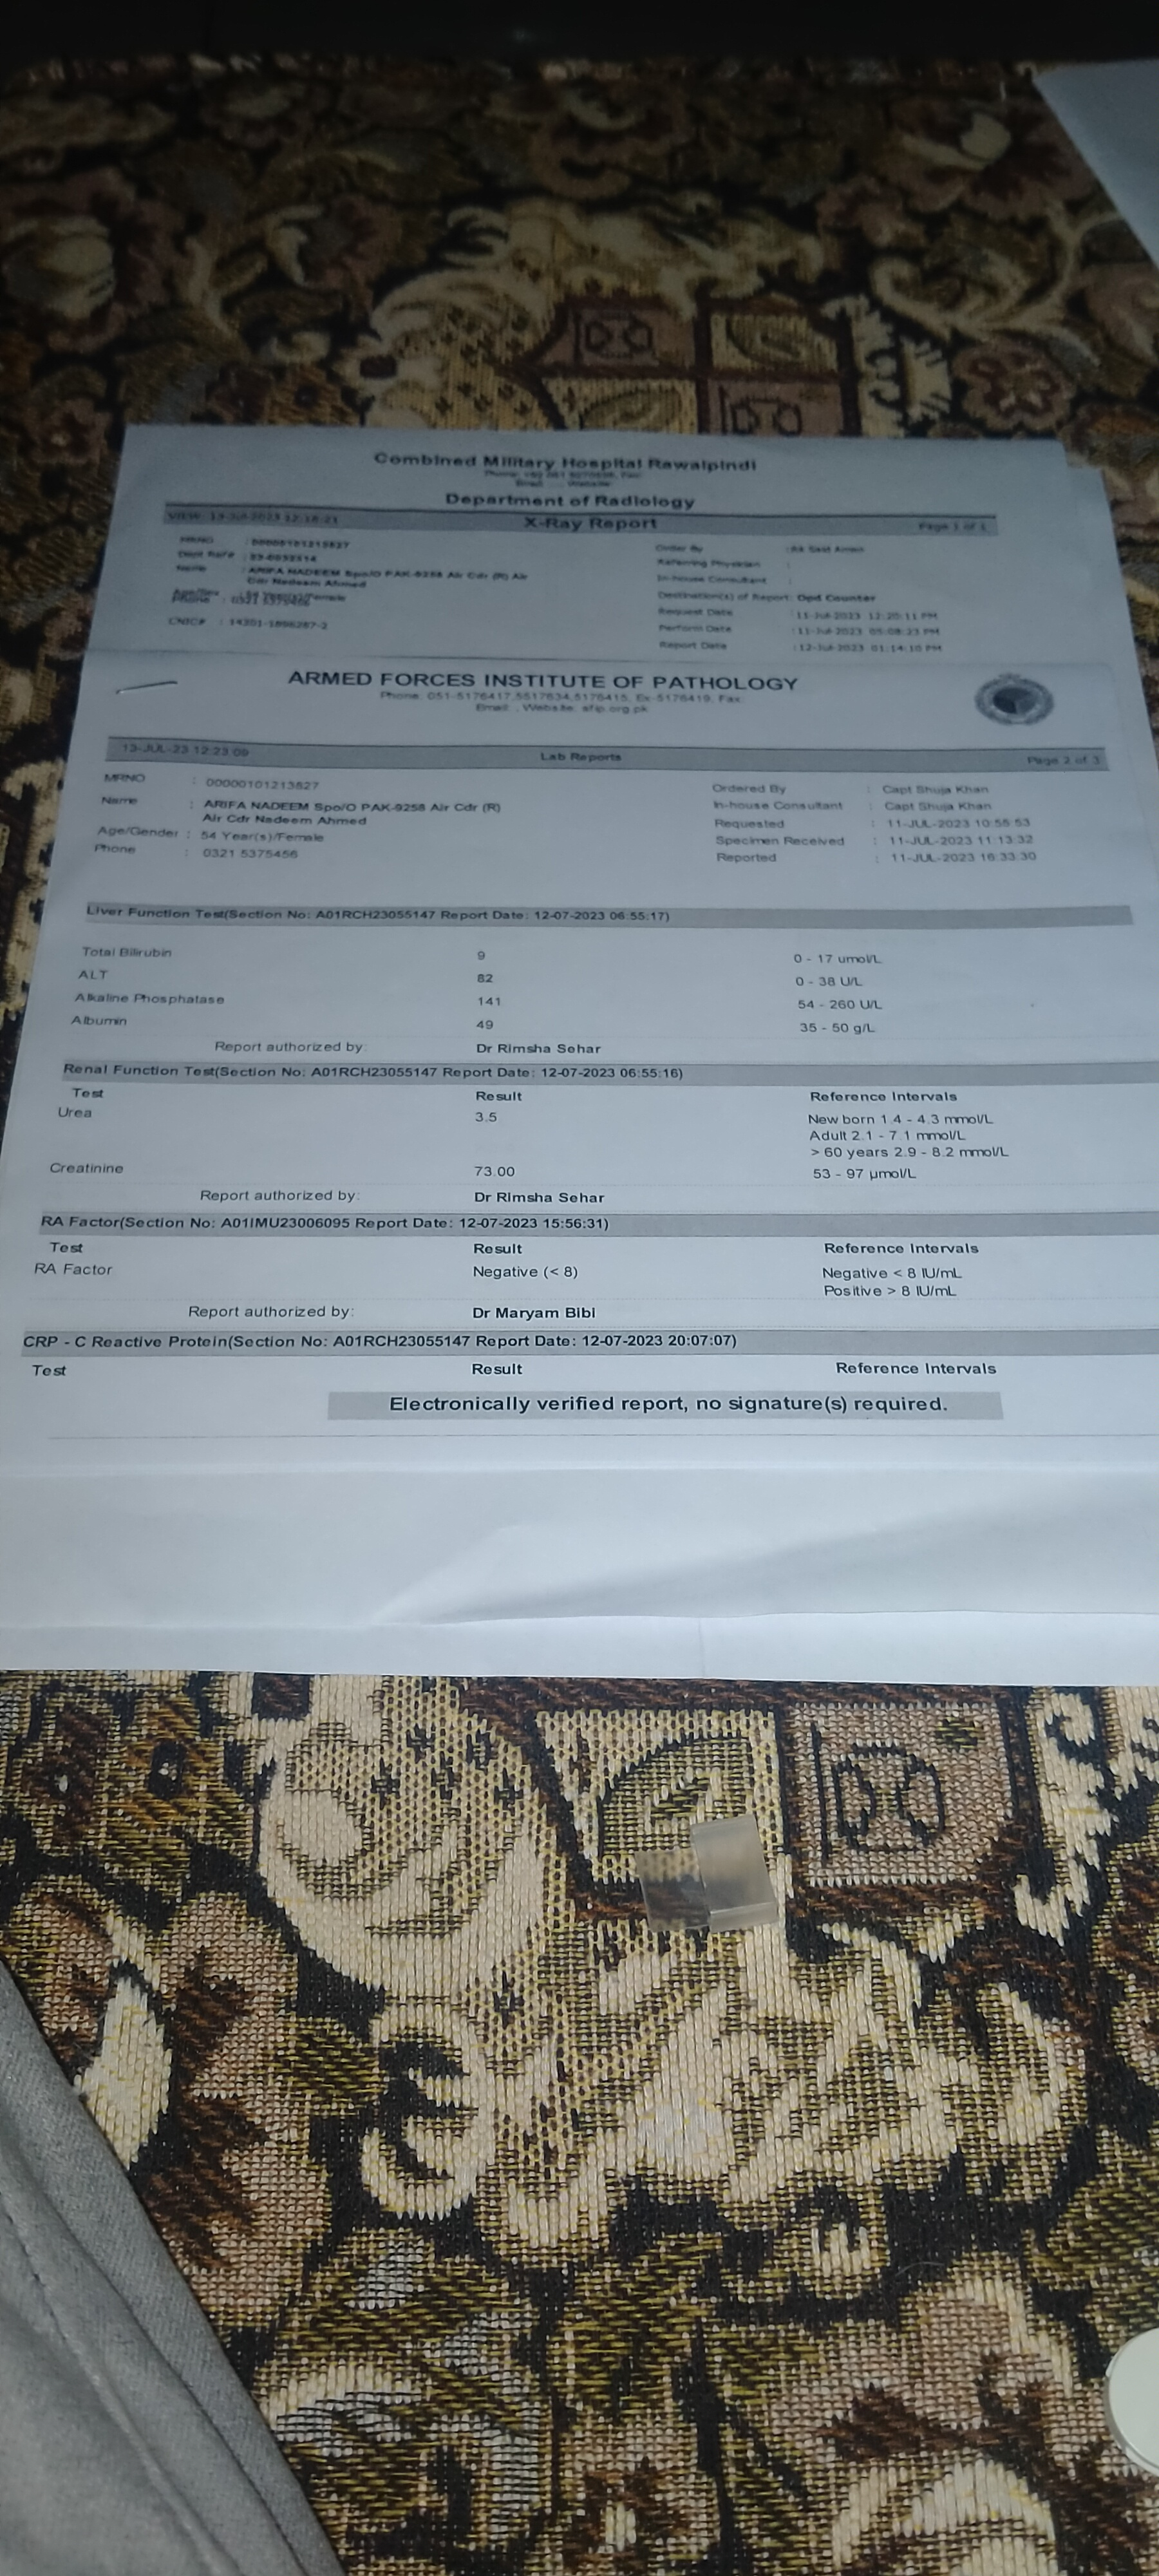report: (21, 889, 1159, 1434)
